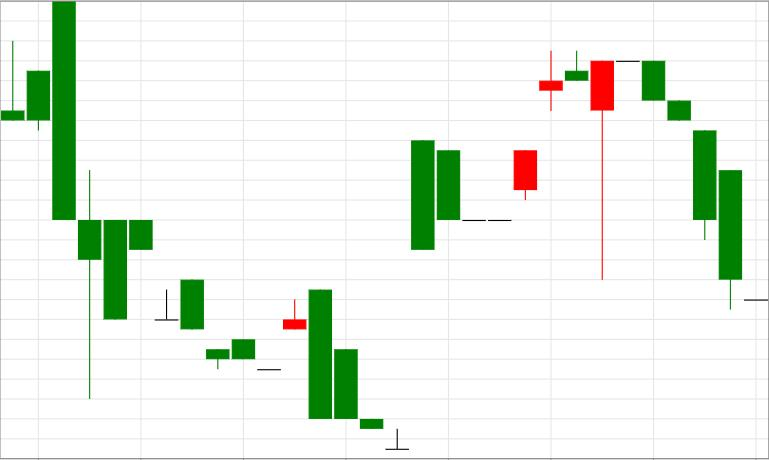hanging_man_fall: (411, 50, 614, 281)
